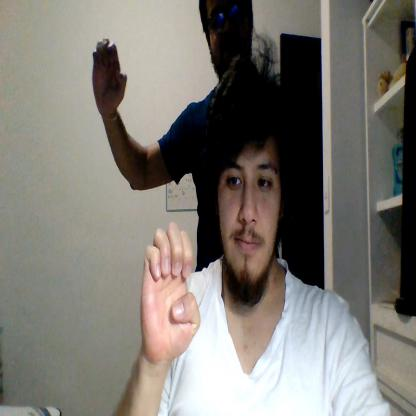E: (140, 221, 200, 363), (92, 38, 128, 116)
